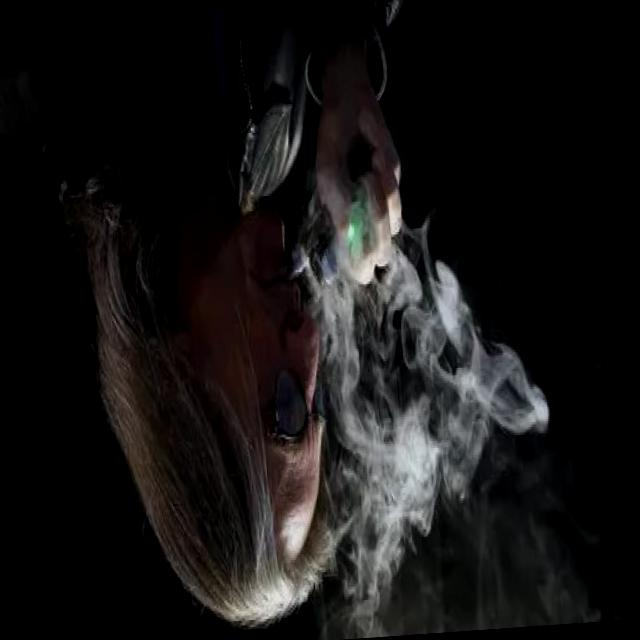cigarette: (291, 169, 390, 312)
